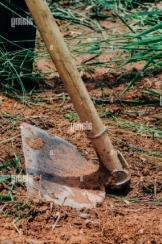HOUE: (0, 4, 138, 228)
